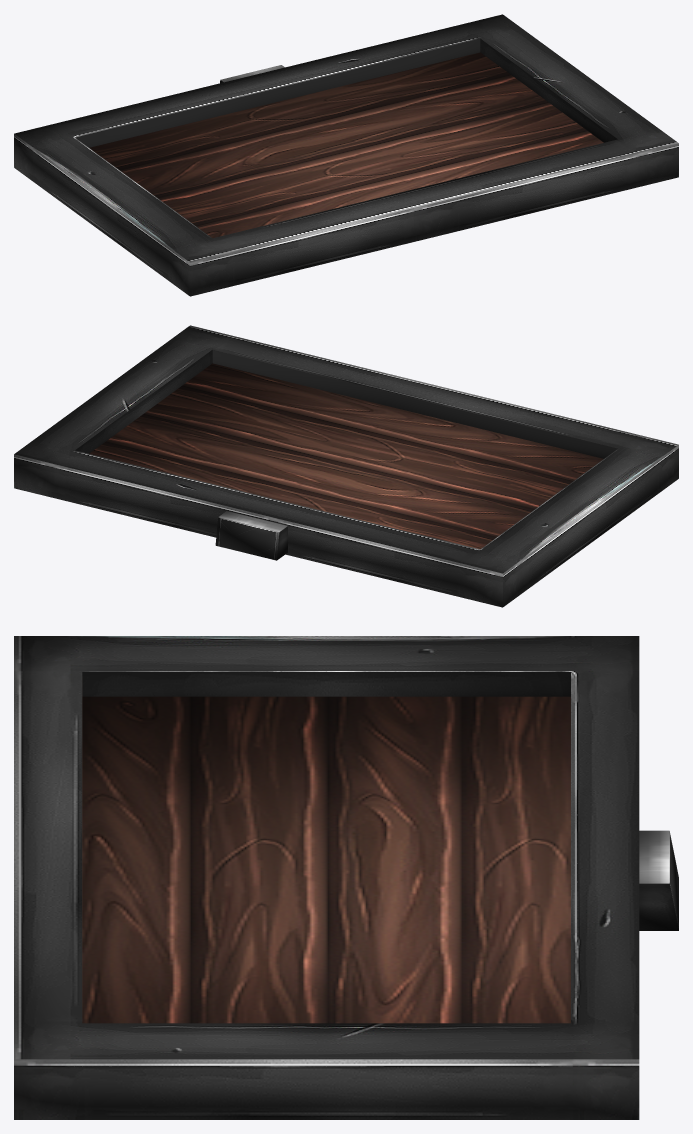
The model's file is trunktop.fbx.
The picture shows the model from 3 angles, top to bottom: view 1: azimuth 30°, elevation 25°; view 2: azimuth 150°, elevation 25°; view 3: azimuth 270°, elevation 25°; orthographic projection. The views are drawn at different scales.
Visible parts, largest first — view 1: Mesh; view 2: Mesh; view 3: Mesh.
Boxes of the visible parts, x1,y1,x2,y2 form: Mesh: (14,14,678,296); Mesh: (14,325,678,607); Mesh: (14,636,678,1119).
Size of the model in its own units: 11.83 by 0.7871 by 7.85.
